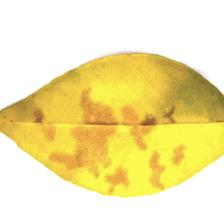black spot: (37, 87, 162, 166)
